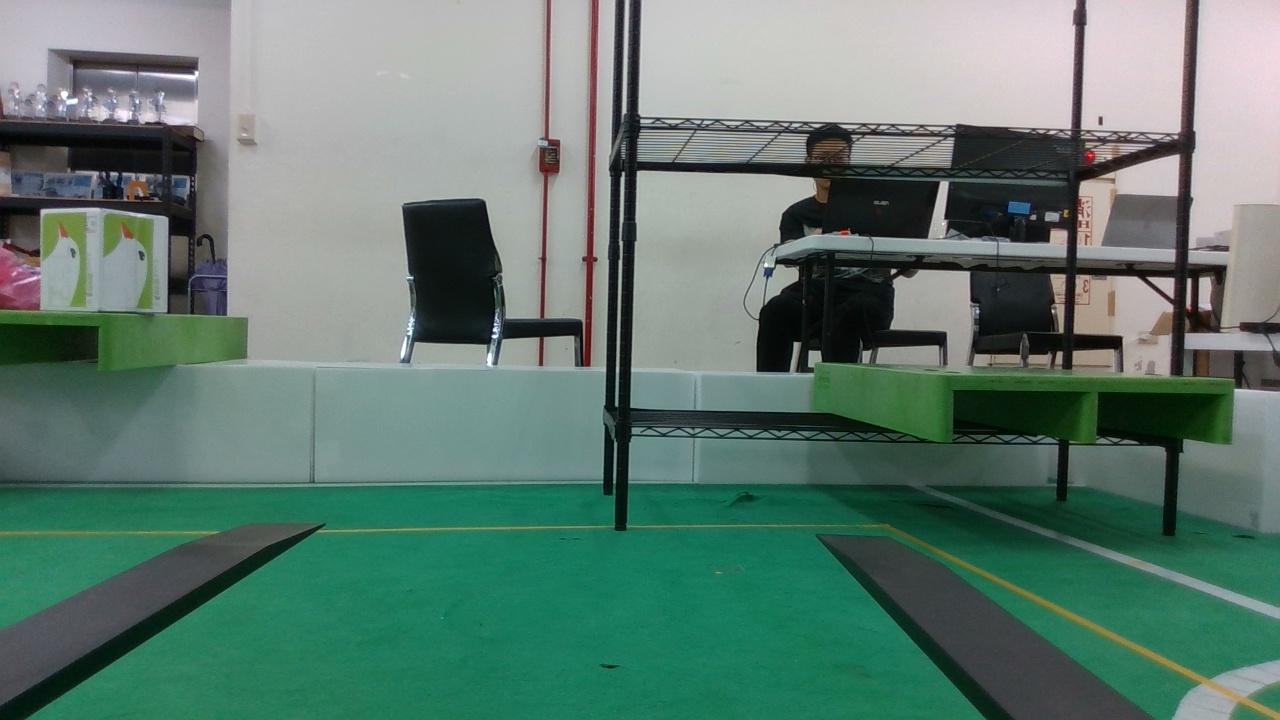Pallet: (937, 374, 1236, 449)
